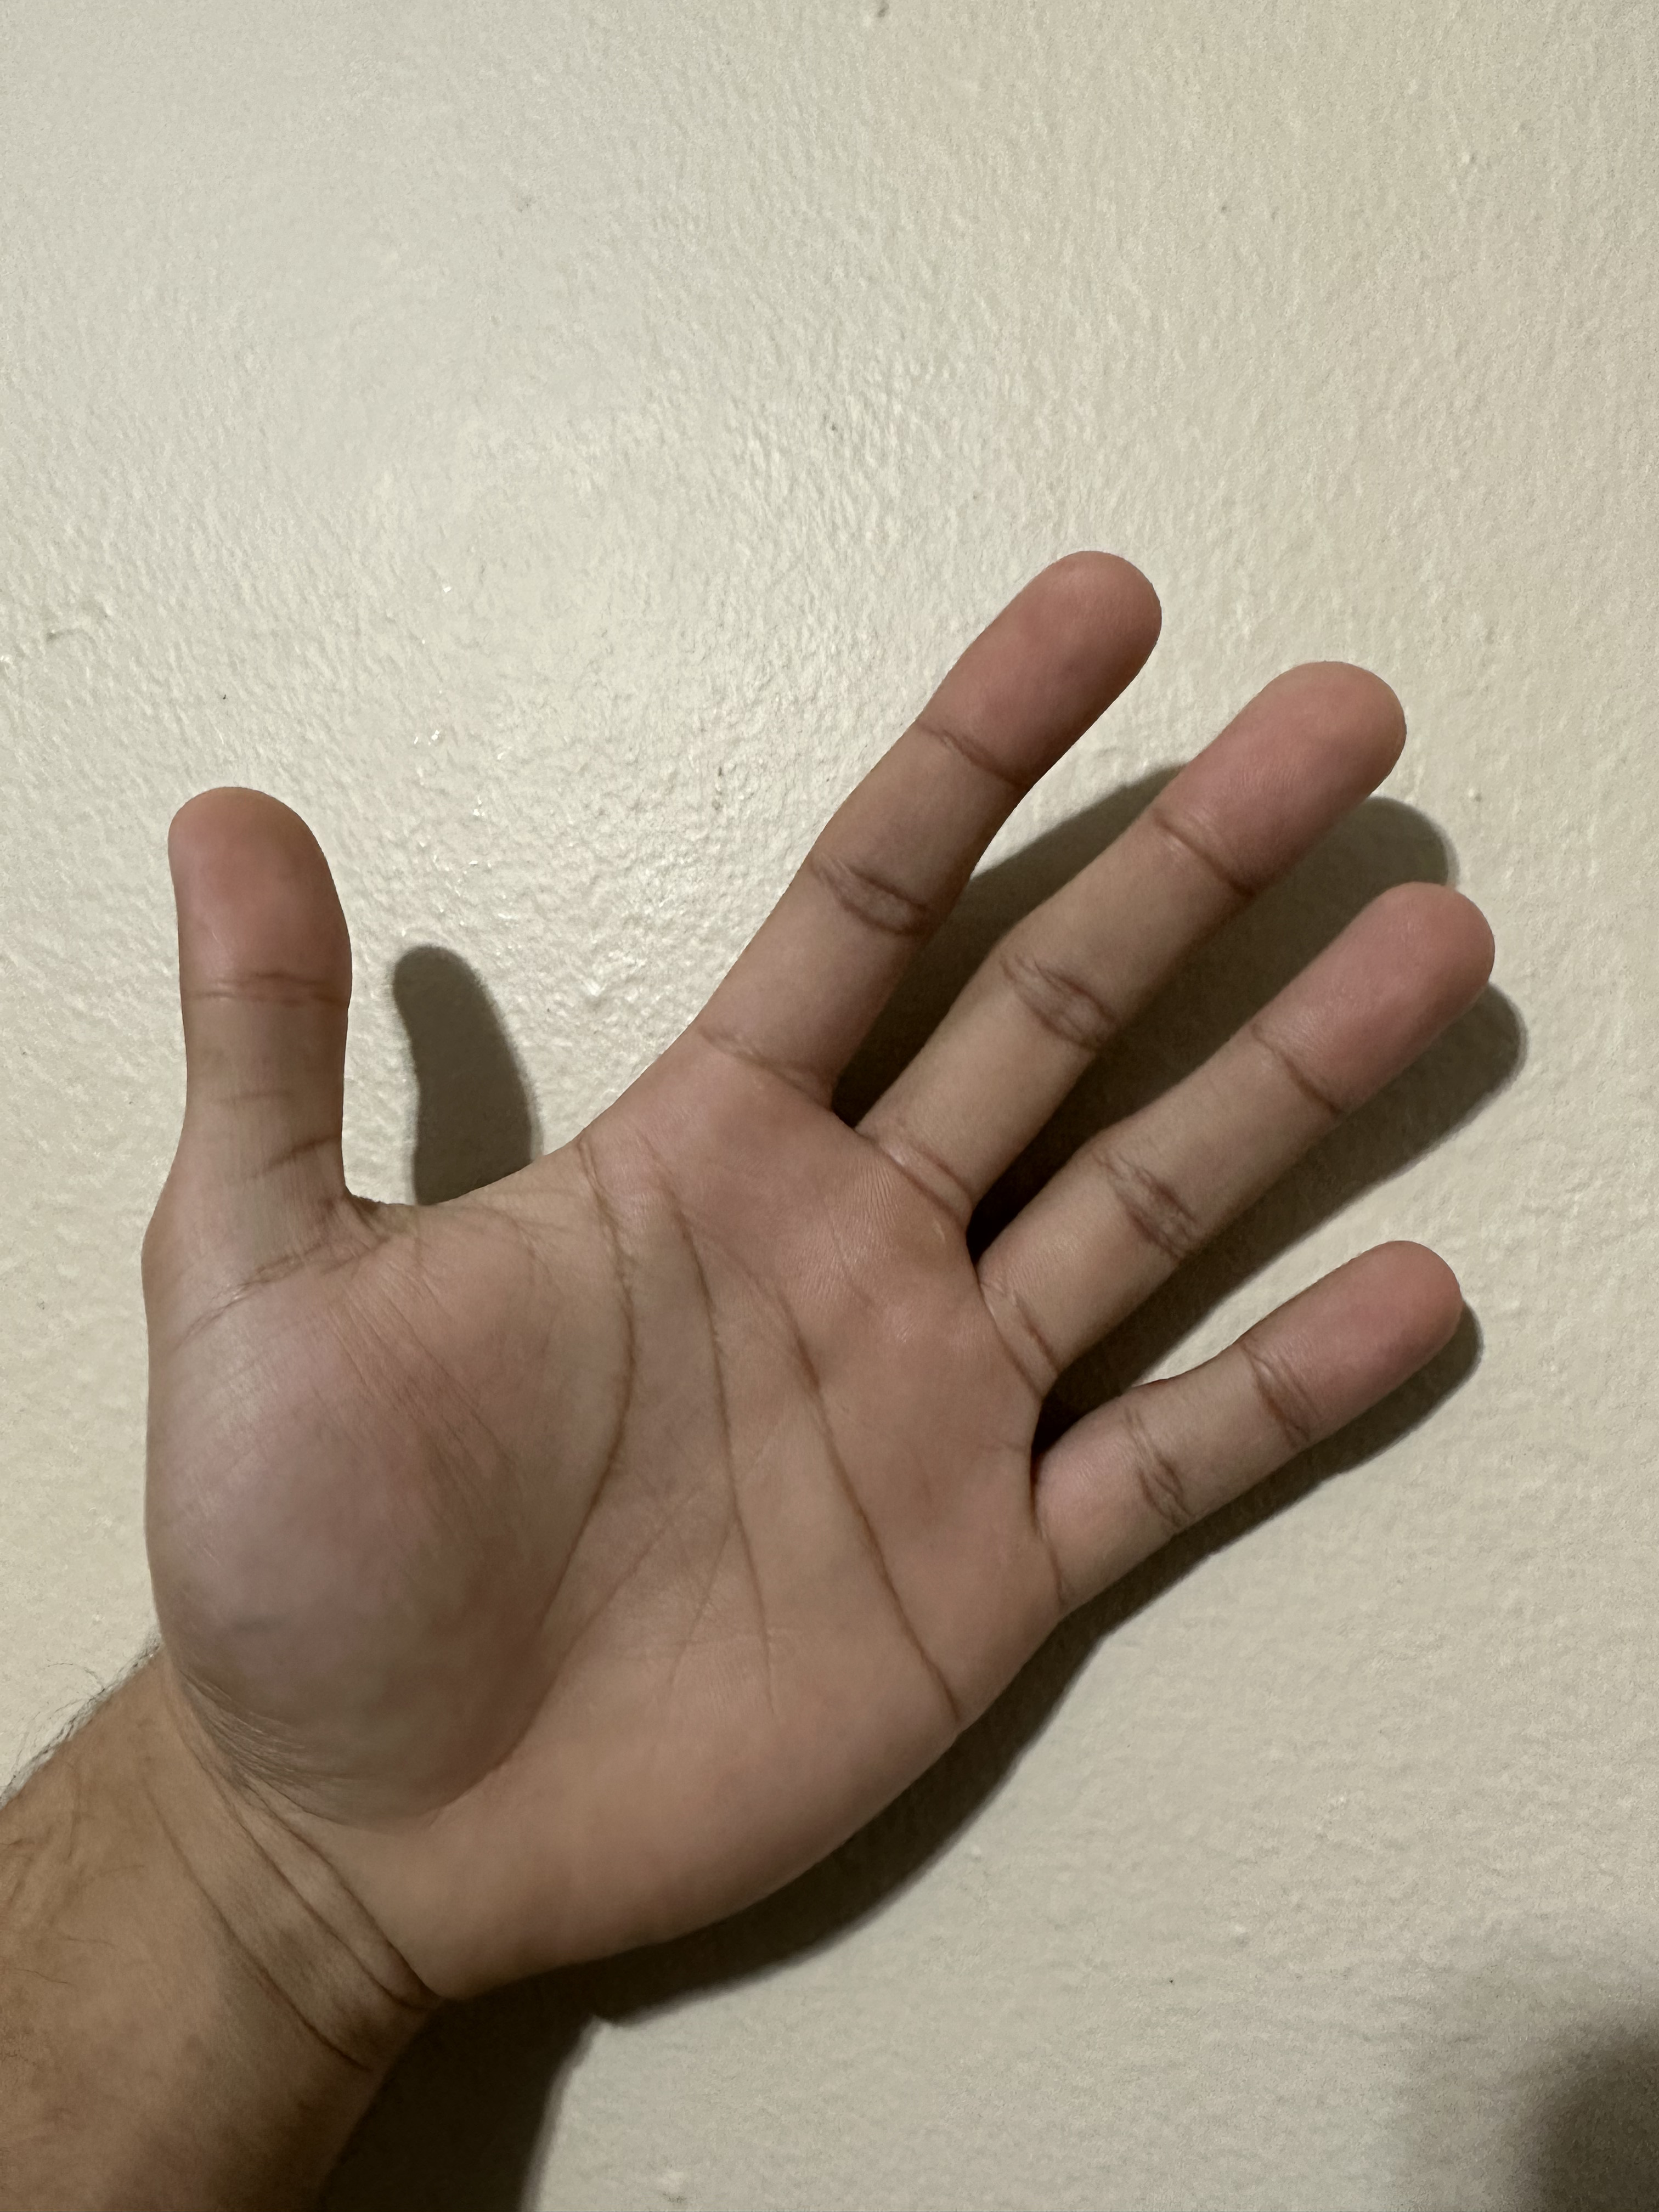finger: (132, 749, 375, 1012), (1297, 864, 1547, 1103), (948, 523, 1187, 758), (1270, 1211, 1527, 1420), (1192, 634, 1436, 840)
